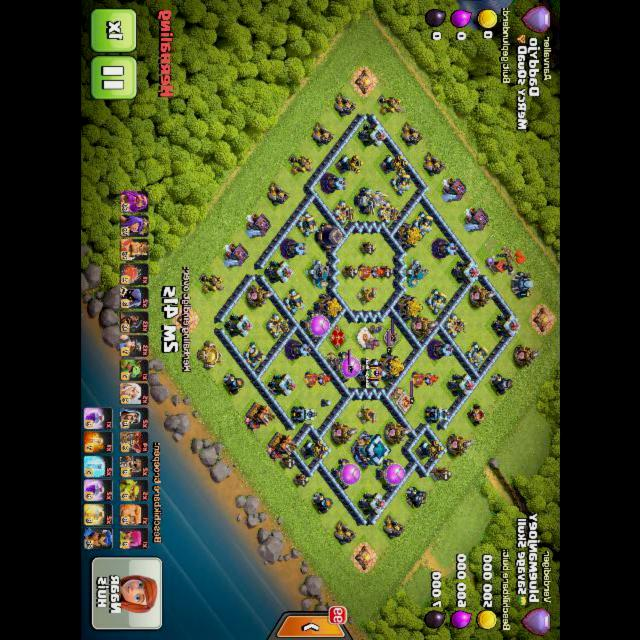AD: (299, 440, 328, 460), (415, 441, 444, 461), (379, 155, 408, 175), (335, 155, 364, 175)
AirSweeper: (356, 286, 377, 305), (356, 405, 377, 424)
BombTower: (290, 407, 317, 423), (425, 407, 451, 423)
Canon: (242, 343, 266, 369), (465, 343, 488, 369), (297, 212, 319, 238), (283, 289, 305, 315), (426, 289, 448, 315), (412, 212, 433, 238), (390, 170, 411, 196)
ClanCastle: (355, 358, 387, 387)
Eagle: (353, 188, 388, 216)
Inferno: (304, 371, 331, 388), (410, 372, 437, 388), (357, 265, 384, 281)
KingPad: (396, 391, 413, 414)
Mortar: (490, 374, 514, 396), (311, 493, 333, 515), (222, 374, 244, 396), (405, 487, 427, 509)
QueenPad: (329, 326, 347, 350)
RcPad: (384, 328, 398, 347)
Scattershot: (404, 260, 429, 287), (306, 260, 329, 289)
TH13: (351, 434, 391, 467)
WardenPad: (357, 327, 372, 348)
WizzTower: (427, 340, 454, 359), (285, 340, 311, 359), (280, 239, 306, 258), (432, 240, 458, 259), (321, 175, 347, 193)
Xbow: (376, 200, 401, 226), (266, 313, 290, 339), (333, 200, 357, 226), (443, 313, 466, 339)
